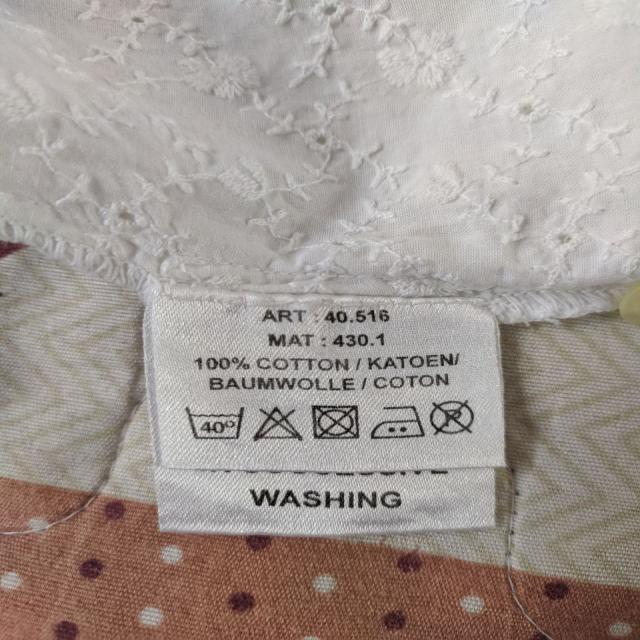40C: (186, 402, 246, 442)
DN_bleach: (250, 402, 302, 444)
DN_dry_clean: (429, 398, 477, 437)
DN_tumble_dry: (309, 403, 360, 444)
iron_medium: (370, 404, 425, 441)
